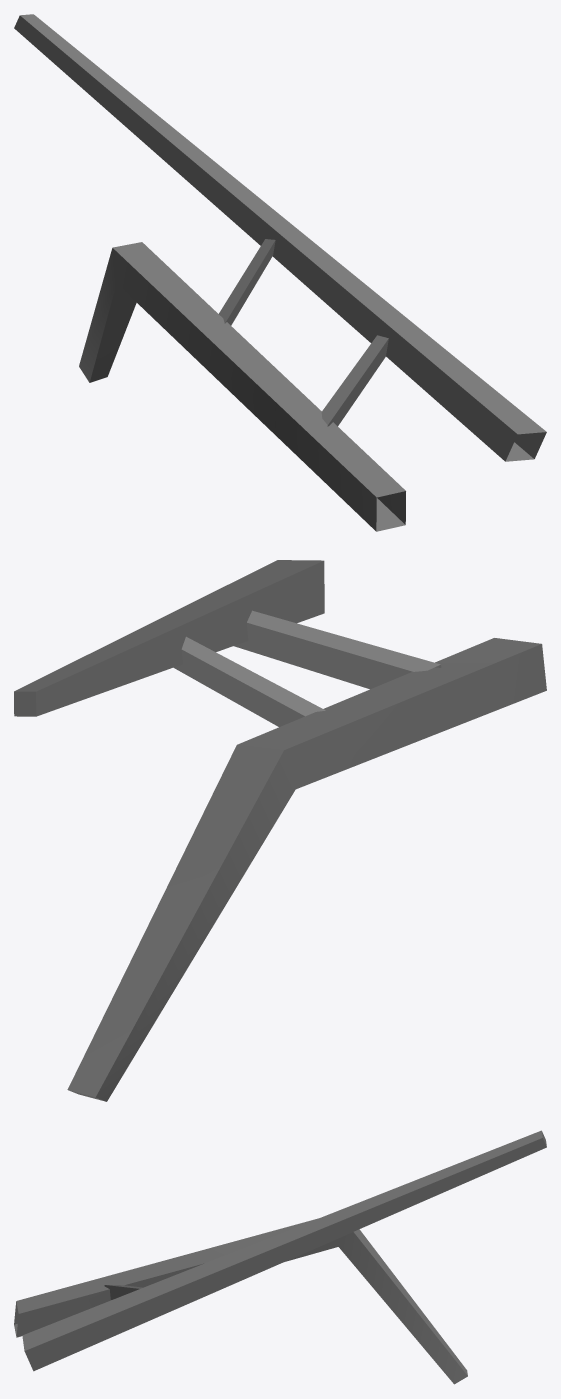
Rendered from Debris 05.FBX.
3 renders of one model, top to bottom at view 1: azimuth 30°, elevation 25°; view 2: azimuth 150°, elevation 25°; view 3: azimuth 270°, elevation 25°, orthographic. The views are drawn at different scales.
Visible parts, largest first — view 1: Debris 05; view 2: Debris 05; view 3: Debris 05.
Part boxes in pixels (box(x1,y1,x2,y2)): Debris 05: box(14, 14, 546, 531); Debris 05: box(14, 560, 546, 1101); Debris 05: box(14, 1130, 546, 1384).
Size of the model in its own units: 69.8 by 98.53 by 195.
1 material, 1 textured.
